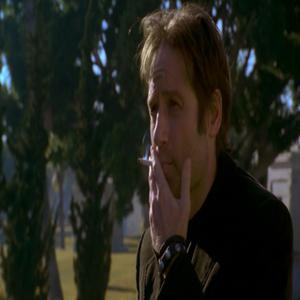cigarette: (134, 157, 155, 165)
